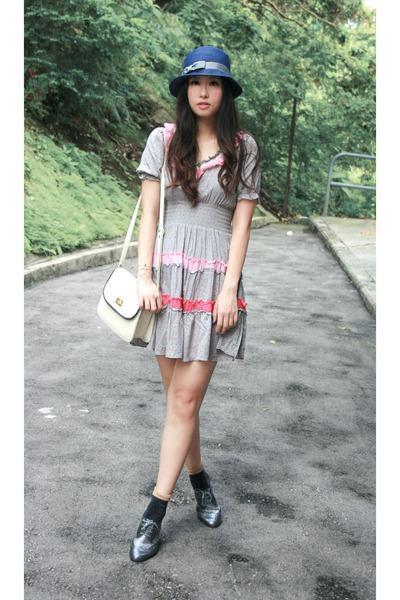bag: (97, 268, 167, 347)
dress: (136, 119, 253, 360)
hat: (156, 43, 241, 101)
shoe: (132, 496, 221, 561)
